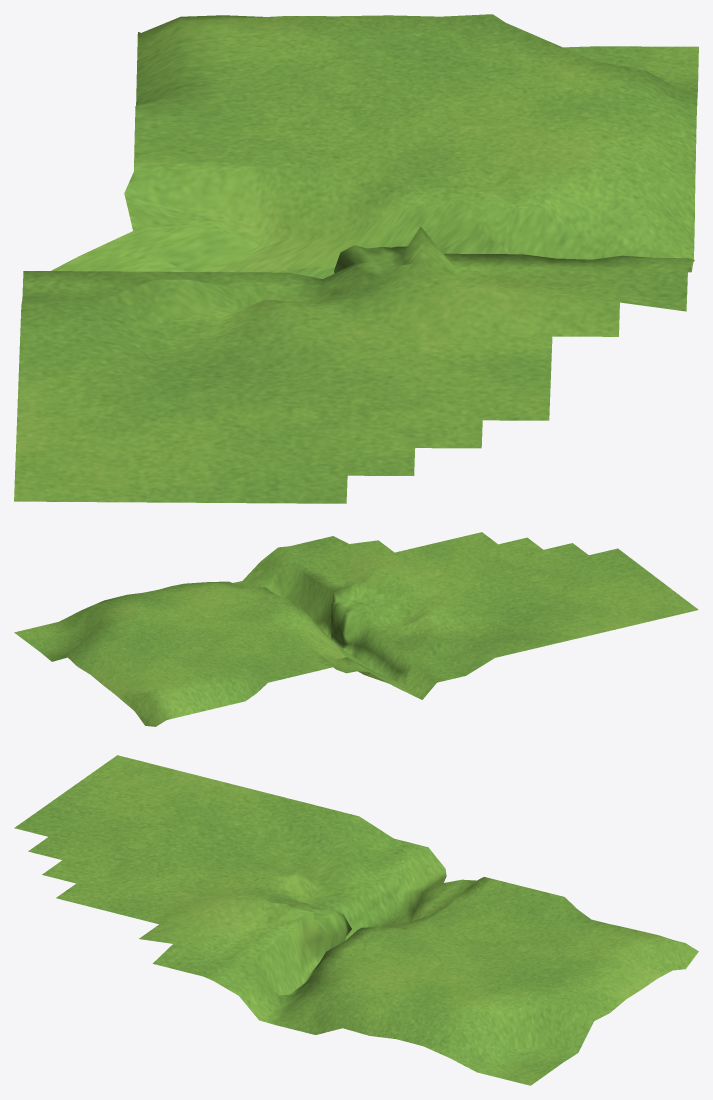
Rendered from stage_terrain.fbx.
The picture shows the model from 3 angles, top to bottom: view 1: azimuth 30°, elevation 25°; view 2: azimuth 150°, elevation 25°; view 3: azimuth 270°, elevation 25°; orthographic projection. The views are drawn at different scales.
Parts seen in each view (by area): view 1: Ground; view 2: Ground; view 3: Ground.
Part boxes in pixels (x1,y1,x2,y2): Ground: (14, 14, 698, 503); Ground: (14, 532, 698, 726); Ground: (14, 755, 698, 1085).
Bounding box in the file's own units: 21167 × 2062 × 20211.
1 material, 1 textured.
